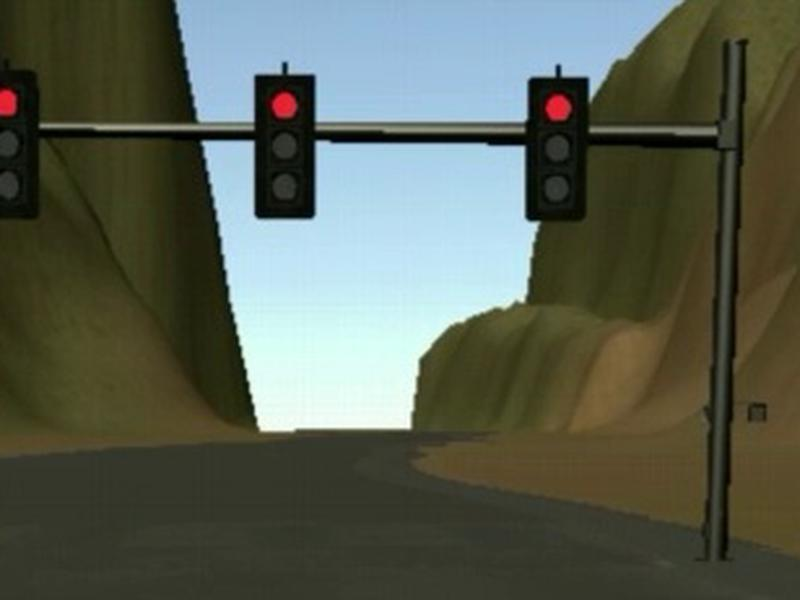Red: (525, 76, 589, 220), (254, 75, 316, 219), (1, 69, 38, 219)
